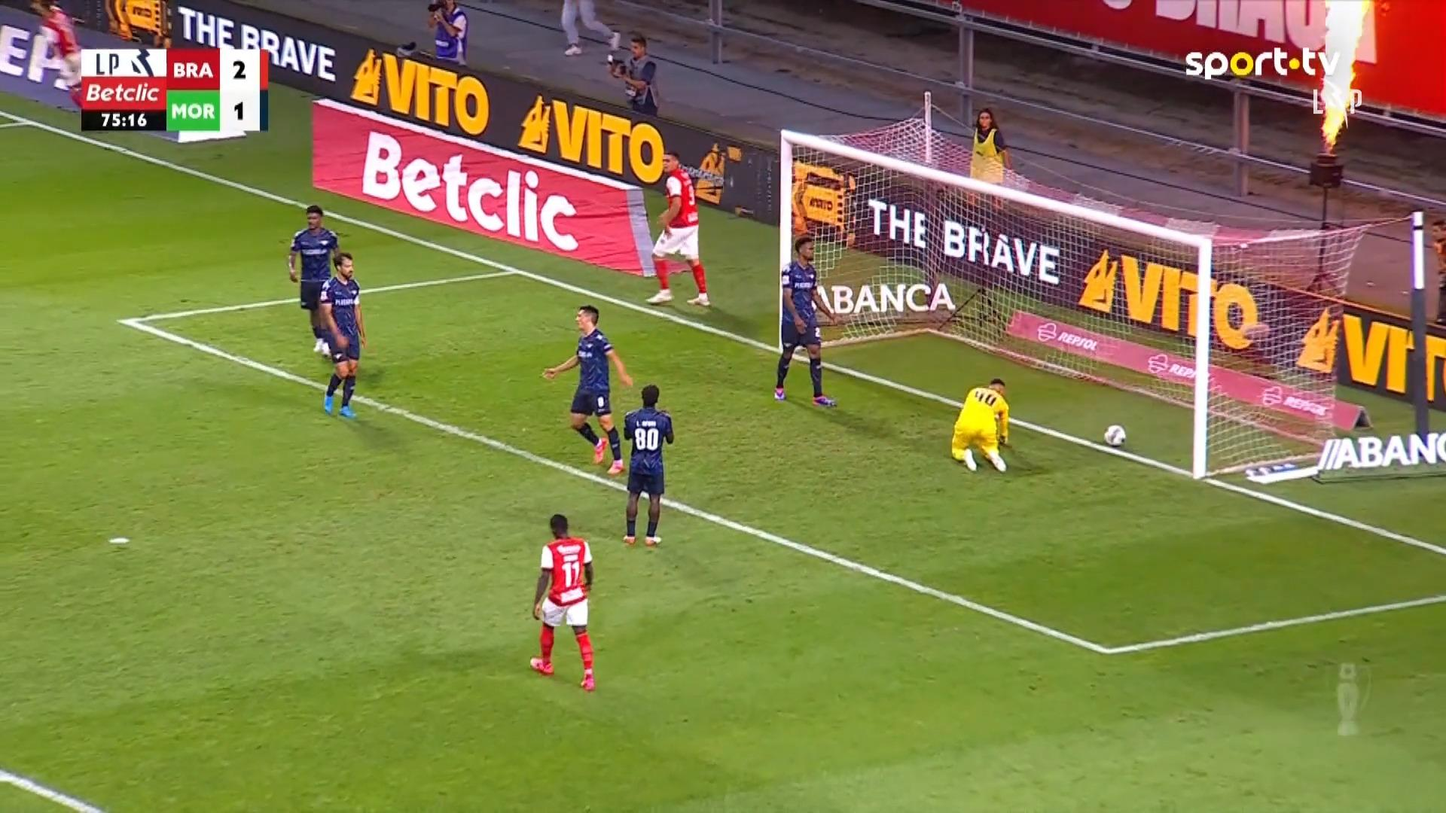ball: (1103, 424, 1125, 446)
goalkeeper: (950, 376, 1011, 473)
player: (540, 303, 633, 475), (773, 233, 843, 407), (528, 513, 596, 692), (645, 149, 711, 306), (314, 251, 367, 418), (620, 383, 674, 546), (286, 203, 340, 357), (38, 2, 83, 93)
